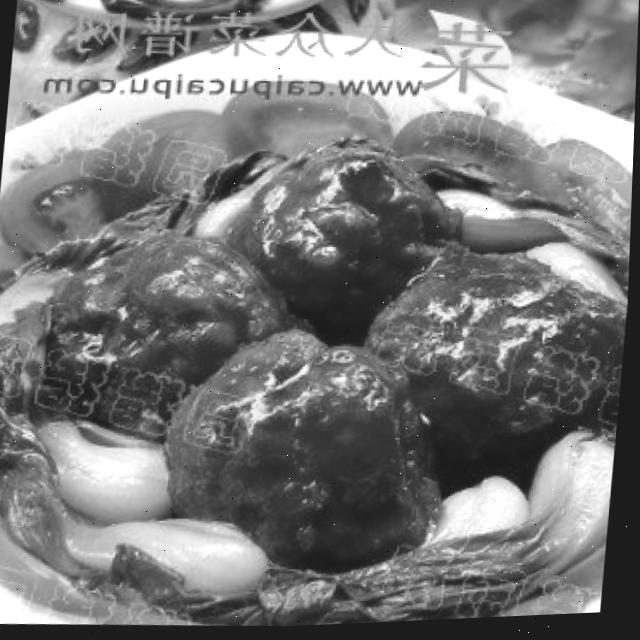猪肉菜式: (0, 10, 639, 617)
